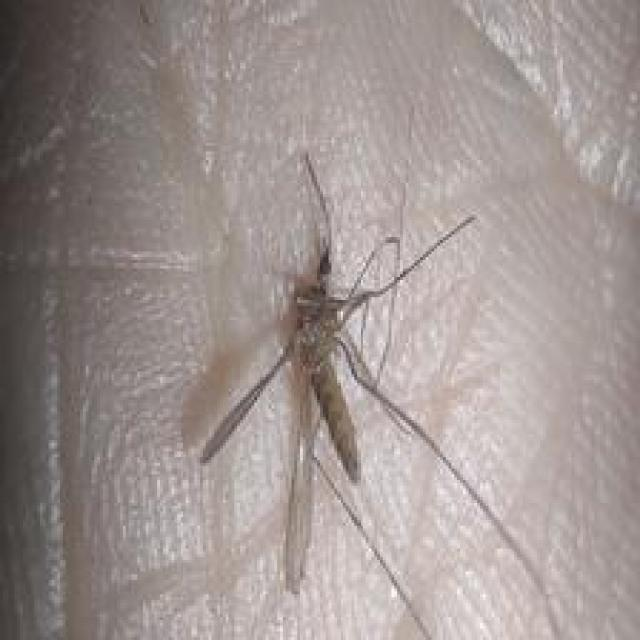Culex: (184, 148, 569, 640)
